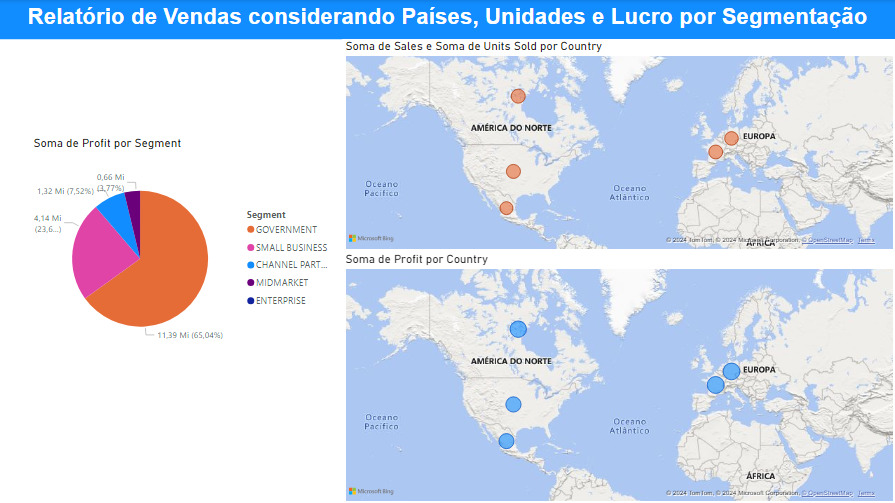

This screenshot's page, from the dashboard's own definition file:
{"tool":"powerbi","page":{"name":"Países Unidades Lucros","canvas":[1280,720],"ordinal":2},"visuals":[{"type":"textbox","box":[0,0,1280,55.7],"z":0},{"type":"pieChart","fields":{"Y":["Sum(financials.Profit)"],"Category":["financials.Segment"]},"box":[44.2,194.1,445.2,331.1],"z":1000},{"type":"map","fields":{"Size":["Sum(financials. Sales)"],"Category":["financials.Country"]},"box":[489.5,55.7,790.5,303.9],"z":2000},{"type":"map","fields":{"Category":["financials.Country"],"Size":["Sum(financials.Profit)"]},"box":[489.5,359.6,790.5,361],"z":3000}]}

Visuals, with their boxes in screenshot pixels (x1, y1, x2, y2), scaled from the page's 1280x720 canvas onto the 895x503 screenshot:
textbox: (0, 0, 894, 39)
pieChart - Sum(financials.Profit) x financials.Segment: (31, 136, 342, 367)
map - Sum(financials. Sales) x financials.Country: (342, 39, 894, 251)
map - financials.Country x Sum(financials.Profit): (342, 251, 894, 502)
